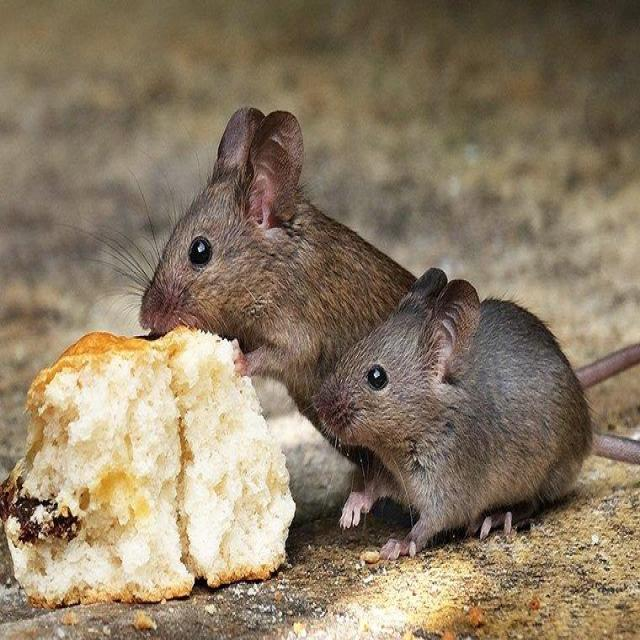rat: (314, 265, 640, 567), (115, 87, 407, 363)
